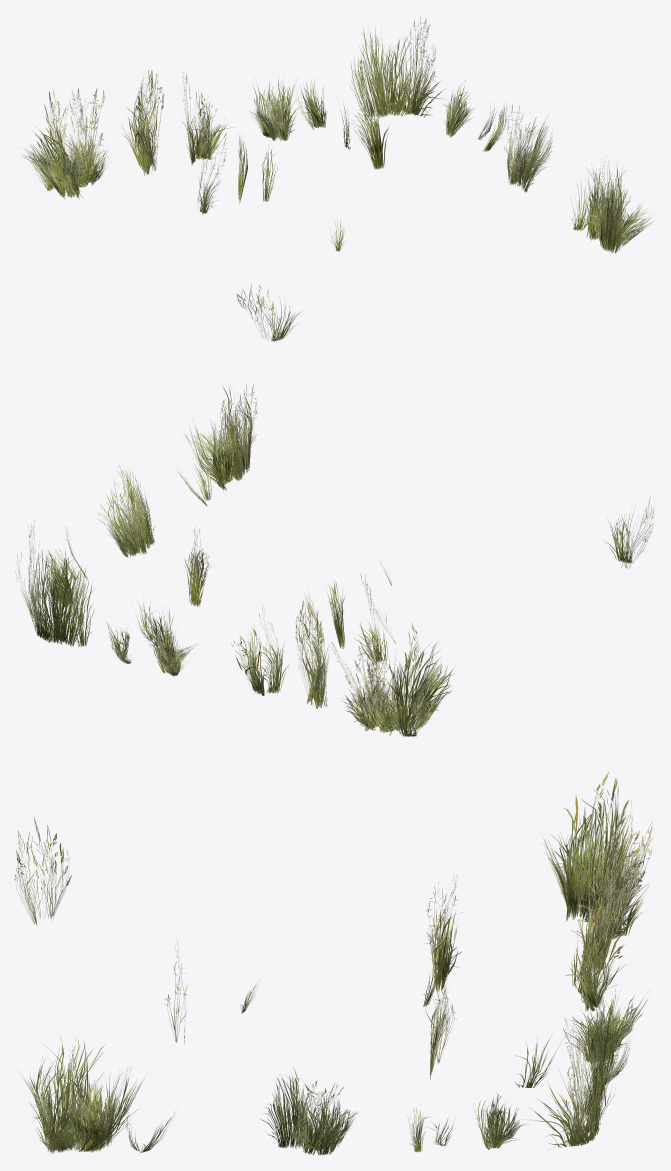
Rendered from grass_grass_0.glb.
The picture shows the model from 3 angles, top to bottom: view 1: azimuth 30°, elevation 25°; view 2: azimuth 150°, elevation 25°; view 3: azimuth 270°, elevation 25°; orthographic projection. The views are drawn at different scales.
Parts seen in each view (by area): view 1: grass_grass_0; view 2: grass_grass_0; view 3: grass_grass_0.
Part boxes in pixels (x1,y1,x2,y2): grass_grass_0: (20, 16, 653, 341); grass_grass_0: (15, 384, 654, 736); grass_grass_0: (14, 772, 653, 1155).
Bounding box in the file's own units: 2.16 × 0.645 × 2.07.
Materials: 1 (1 with a texture image).
